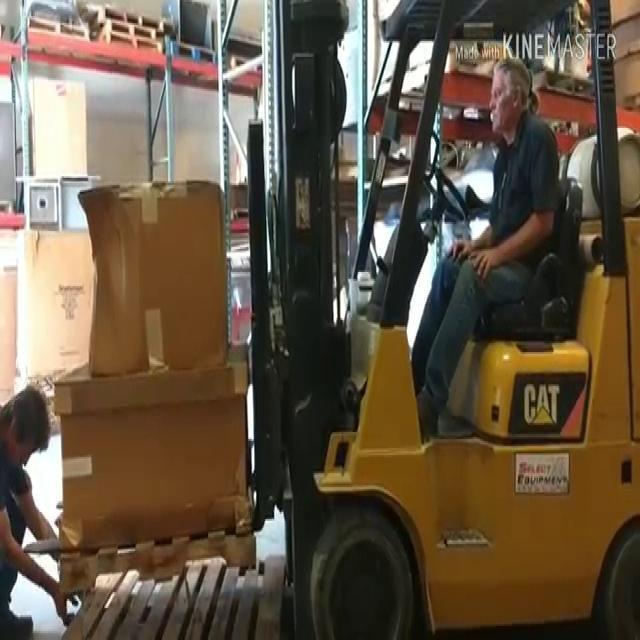forklift: (279, 2, 640, 640)
